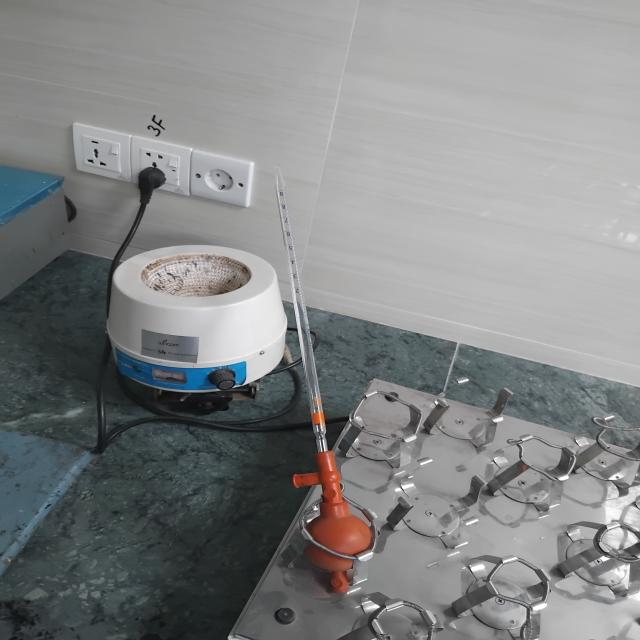Volumetric_Pipet: (217, 130, 440, 607)
